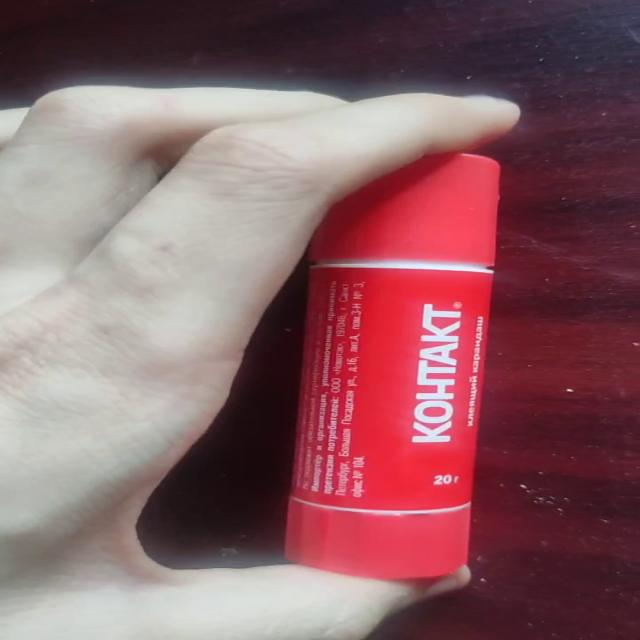glue: (282, 150, 500, 580)
